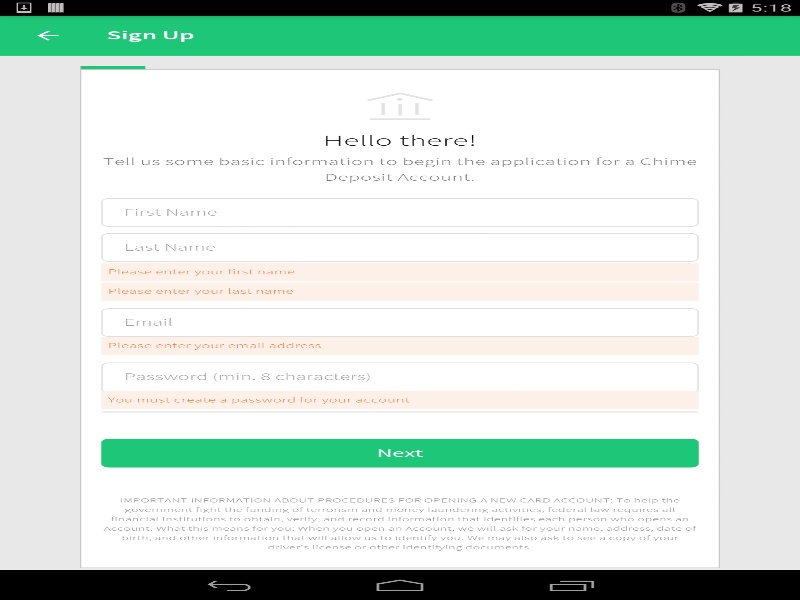Button: (101, 438, 698, 467), (10, 15, 85, 55)
Input: (101, 362, 698, 391), (101, 198, 698, 226), (101, 233, 698, 261), (101, 308, 698, 336)
